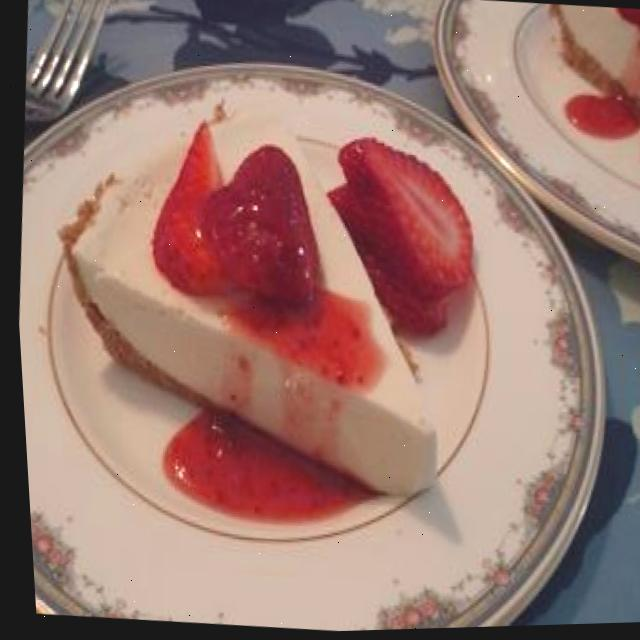蛋糕甜品: (2, 28, 545, 582)
